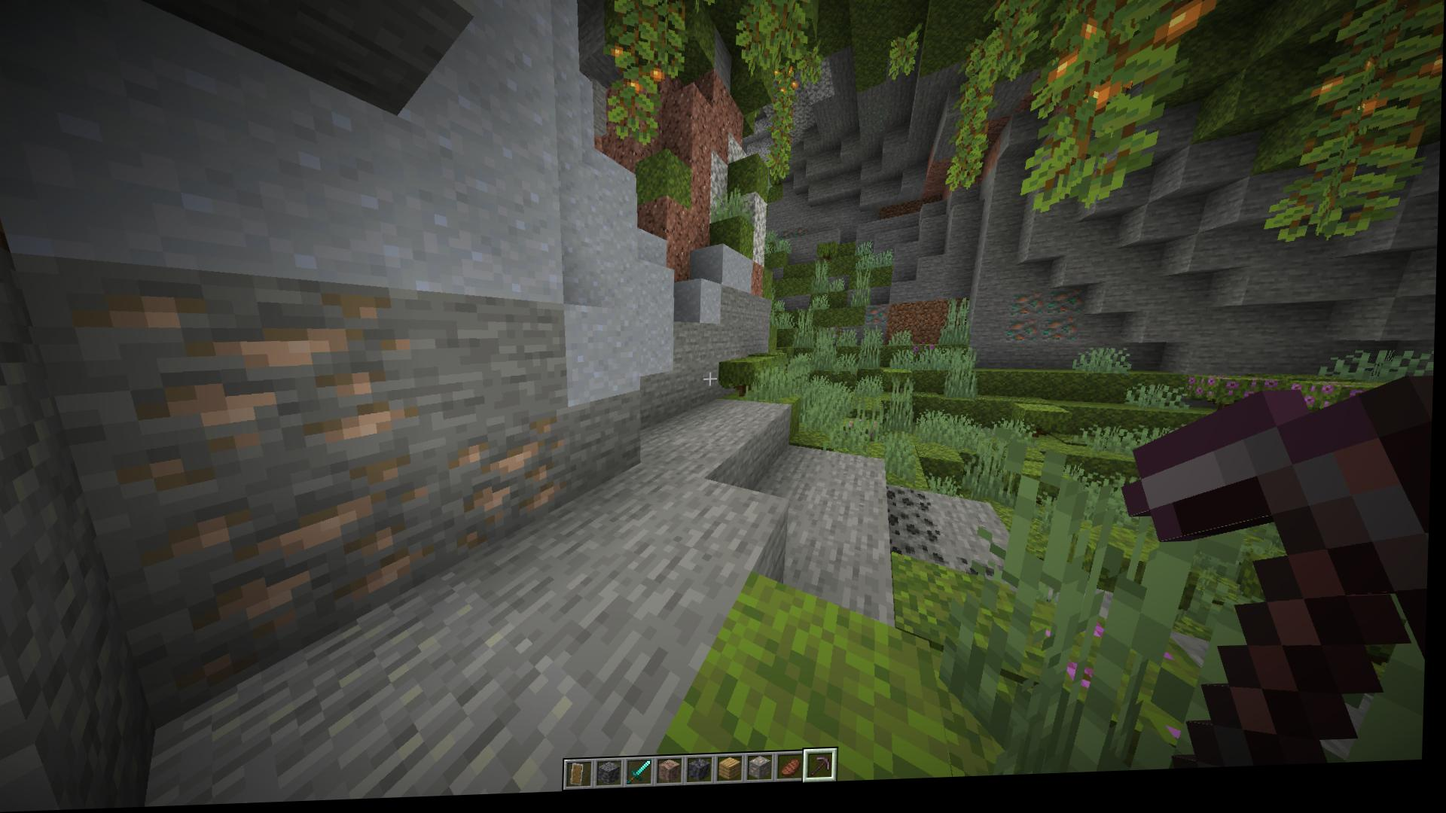iron ore: (45, 262, 424, 495), (128, 486, 445, 681), (447, 417, 569, 550)
